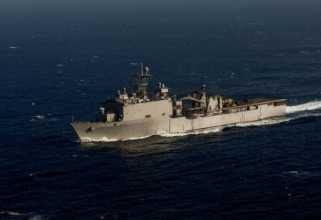warship: (62, 66, 288, 145)
